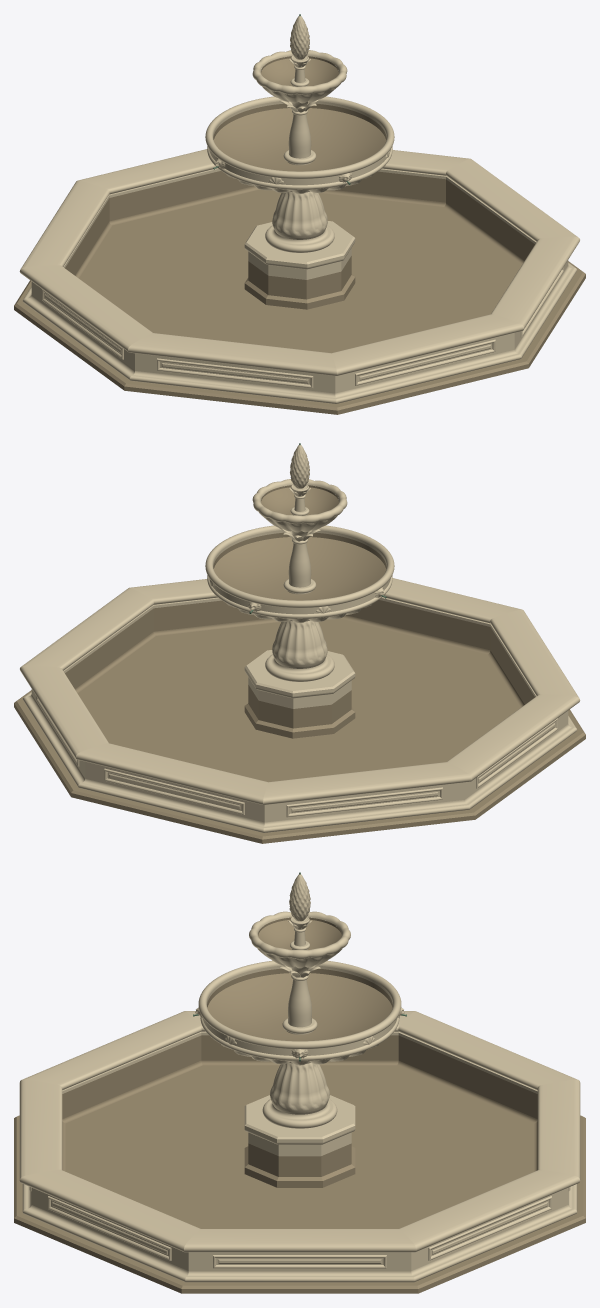
3 views of the same model, one above another, from view 1: azimuth 30°, elevation 25°; view 2: azimuth 150°, elevation 25°; view 3: azimuth 270°, elevation 25° (orthographic). The views are drawn at different scales.
Parts seen in each view (by area): view 1: Basin_Interior, Basin_Wall, MiddleBowl_Interior, Basin_Plinth, Pedestal, MiddleBowl, UpperBowl, UpperBowl_Interior, UpperStem, Finial; view 2: Basin_Interior, Basin_Wall, MiddleBowl_Interior, Basin_Plinth, Pedestal, MiddleBowl, UpperBowl, UpperBowl_Interior, UpperStem, Finial; view 3: Basin_Interior, Basin_Wall, MiddleBowl_Interior, Basin_Plinth, Pedestal, MiddleBowl, UpperBowl, UpperBowl_Interior, UpperStem, Finial.
Boxes of the visible parts, x1,y1,x2,y2 form: Basin_Interior: (65,171,534,353); Basin_Wall: (19,149,579,403); MiddleBowl_Interior: (213,103,386,171); Basin_Plinth: (14,261,585,414); Pedestal: (244,191,355,279); MiddleBowl: (205,96,394,193); UpperBowl: (252,50,347,103); UpperBowl_Interior: (261,56,338,85); UpperStem: (279,99,320,165); Finial: (289,16,310,86); Basin_Interior: (65,600,534,782); Basin_Wall: (20,578,580,832); MiddleBowl_Interior: (213,532,386,600); Basin_Plinth: (14,690,585,843); Pedestal: (244,620,355,708); MiddleBowl: (205,525,394,622); UpperBowl: (252,479,347,532); UpperBowl_Interior: (261,485,338,514); UpperStem: (279,528,320,594); Finial: (289,445,310,515); Basin_Interior: (62,1035,537,1228); Basin_Wall: (19,1011,580,1282); MiddleBowl_Interior: (207,968,392,1041); Basin_Plinth: (14,1115,585,1293); Pedestal: (244,1062,355,1156); MiddleBowl: (195,960,404,1065); UpperBowl: (249,911,350,968); UpperBowl_Interior: (258,917,341,949); UpperStem: (279,965,320,1034); Finial: (288,874,311,949).
Size of the model in its own units: 6.2 by 3.59 by 6.2.
